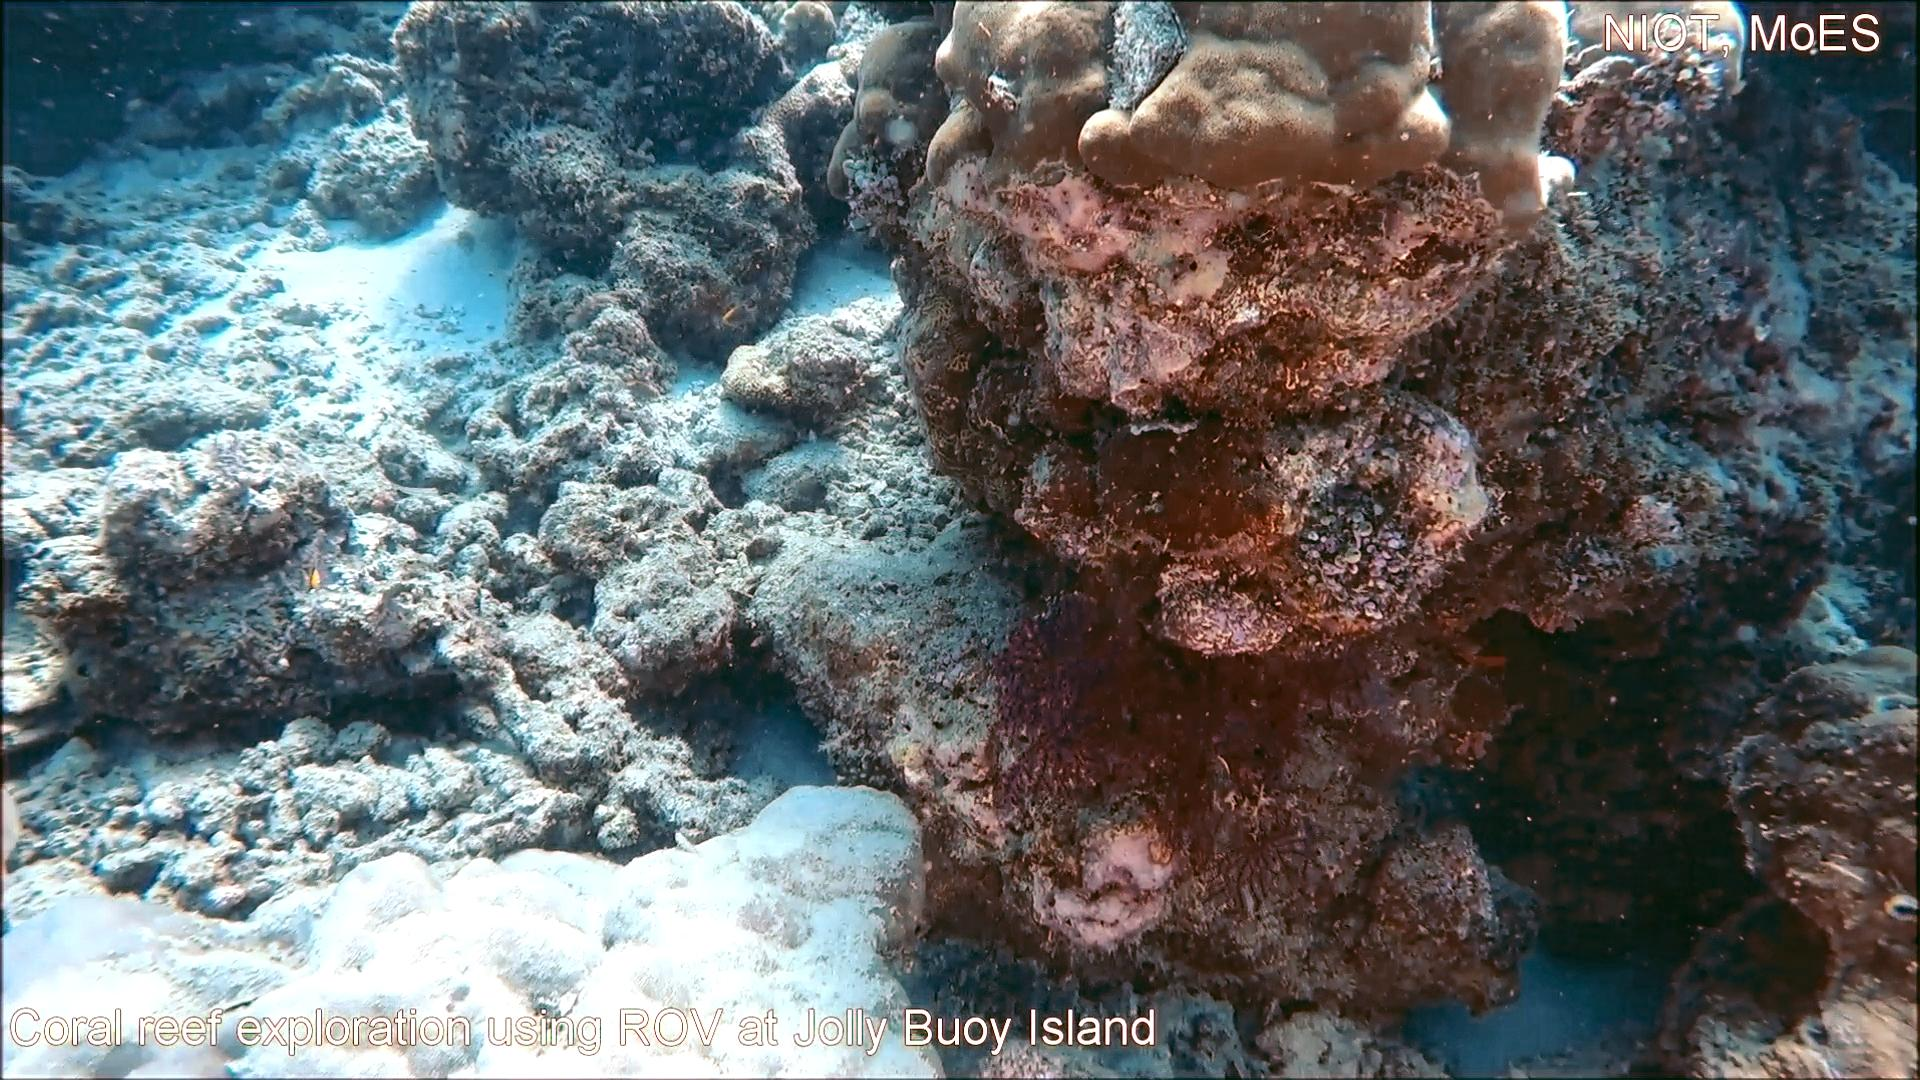Gorgonian-Purple Plexaura: (978, 546, 1378, 932)
Porites-Porites pukoensis: (233, 777, 953, 1080), (922, 0, 1573, 247)
